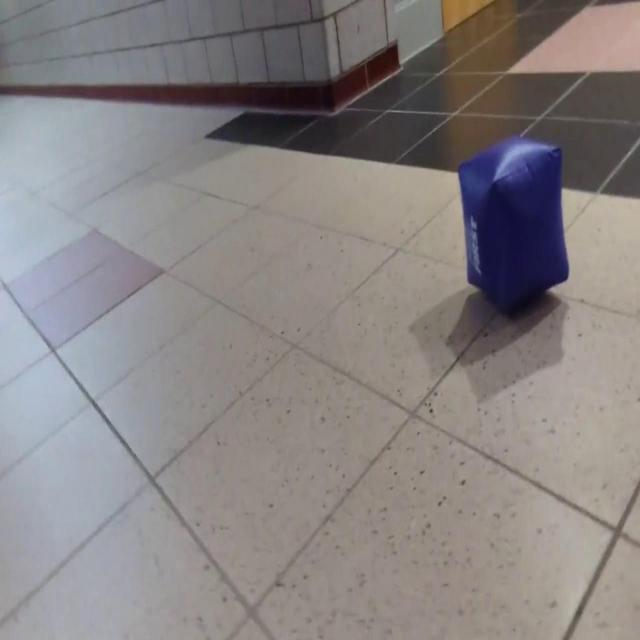frc_cube: (458, 134, 570, 316)
